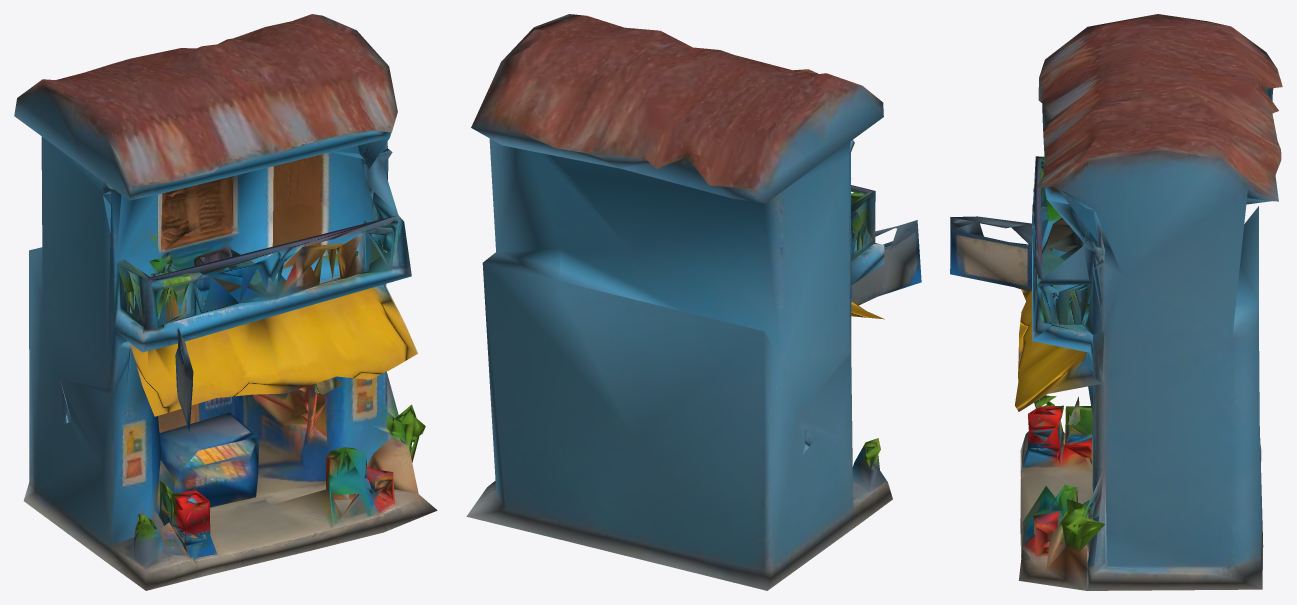
File: building-1.glb
3 views of the same model, side by side, from view 1: azimuth 30°, elevation 25°; view 2: azimuth 150°, elevation 25°; view 3: azimuth 270°, elevation 25° (orthographic). The views are drawn at different scales.
Parts seen in each view (by area): view 1: tripo_node_2d309cf6-840a-4953-8b7f-63adf385adc2; view 2: tripo_node_2d309cf6-840a-4953-8b7f-63adf385adc2; view 3: tripo_node_2d309cf6-840a-4953-8b7f-63adf385adc2.
Part boxes in pixels (left/top/right/bottom): tripo_node_2d309cf6-840a-4953-8b7f-63adf385adc2: left=14, top=14, right=437, bottom=590; tripo_node_2d309cf6-840a-4953-8b7f-63adf385adc2: left=466, top=14, right=921, bottom=590; tripo_node_2d309cf6-840a-4953-8b7f-63adf385adc2: left=950, top=14, right=1282, bottom=590.
Bounding box in the file's own units: 0.7252 × 1 × 0.6868.
1 material, 1 textured.
